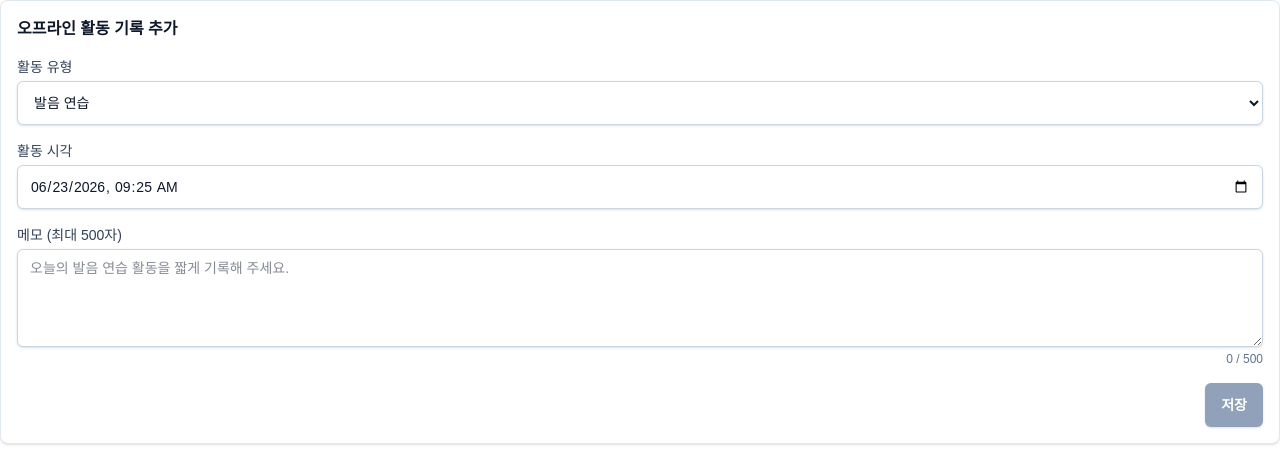
Test: OfflineEntryForm — UI 인터랙션 › [5] note 글자 수 카운터 — 입력에 따라 갱신
Expected: the text with test id "offline-entry-note-count" shows "0 /", [1226, 352, 1263, 366]
Type "안녕하세요" into the text box with test id "offline-entry-note".
click(640, 298); type("안녕하세요")  # box [17, 249, 1263, 347]
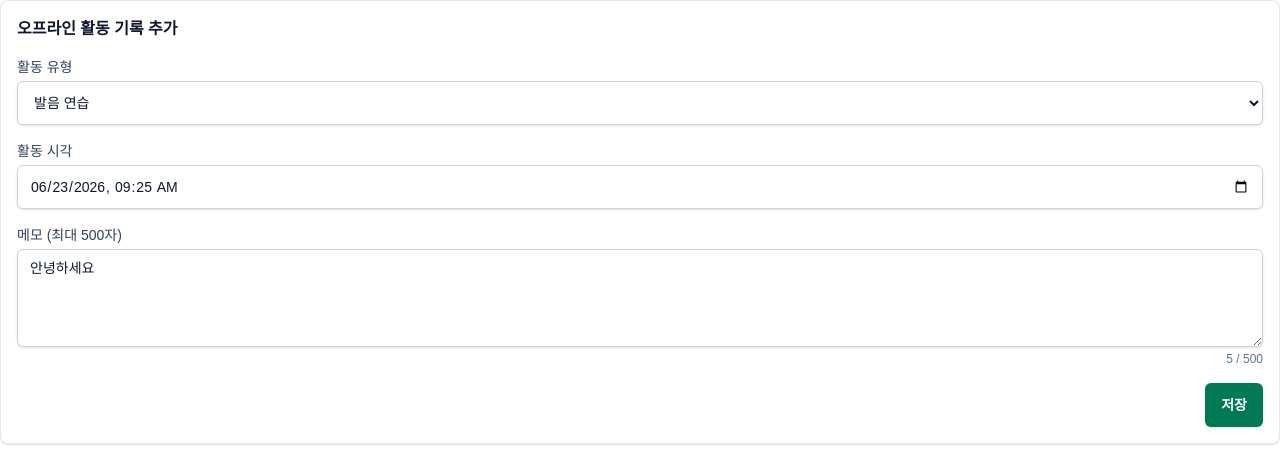
Expected: the text with test id "offline-entry-note-count" shows "5 /", [1226, 352, 1263, 366]
